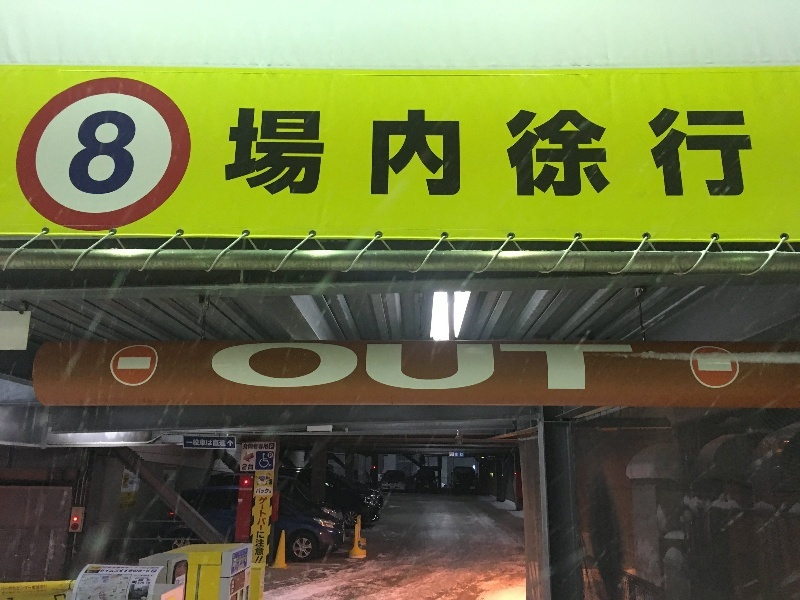text: (241, 105, 256, 199), (257, 105, 272, 199), (273, 105, 288, 199), (289, 105, 304, 199), (305, 105, 320, 199), (321, 105, 336, 199), (337, 105, 352, 199), (353, 105, 368, 199), (369, 105, 384, 199), (385, 105, 400, 199), (401, 105, 416, 199), (417, 105, 432, 199), (433, 105, 448, 199), (449, 105, 464, 199), (465, 105, 480, 199), (481, 105, 496, 199), (497, 105, 512, 199), (513, 105, 528, 199), (529, 105, 544, 199), (545, 105, 560, 199), (561, 105, 576, 199), (577, 105, 592, 199), (593, 105, 608, 199), (609, 105, 624, 199), (625, 105, 640, 199), (641, 105, 656, 199), (657, 105, 672, 199), (673, 105, 688, 199), (689, 105, 704, 199), (705, 105, 720, 199), (721, 105, 736, 199), (737, 105, 752, 199), (97, 109, 112, 199), (113, 109, 128, 199), (129, 109, 144, 199), (82, 109, 96, 199), (225, 341, 240, 392), (241, 341, 256, 392), (257, 341, 272, 392), (273, 341, 288, 392), (289, 341, 304, 392), (305, 341, 320, 392), (321, 341, 336, 392), (337, 341, 352, 392), (353, 341, 368, 392), (369, 341, 384, 392), (385, 341, 400, 392), (401, 341, 416, 392), (417, 341, 432, 392), (433, 341, 448, 392), (449, 341, 464, 392), (465, 341, 480, 392), (481, 341, 496, 392), (497, 341, 512, 392), (513, 341, 528, 392), (529, 341, 544, 392), (545, 341, 560, 392), (561, 341, 576, 392), (577, 341, 592, 392), (593, 341, 608, 392), (609, 341, 624, 392), (625, 341, 640, 392), (753, 105, 761, 199), (260, 497, 272, 556), (233, 105, 240, 199), (213, 341, 224, 392), (145, 109, 148, 199), (641, 341, 646, 392), (193, 440, 208, 447), (209, 440, 224, 447), (17, 585, 32, 592), (2, 585, 16, 592), (33, 585, 47, 592), (243, 443, 256, 450), (243, 464, 256, 470), (257, 443, 268, 450), (257, 489, 272, 494), (454, 452, 464, 457), (113, 570, 128, 573), (129, 570, 144, 573), (186, 440, 192, 447), (145, 570, 158, 573), (102, 570, 112, 573), (269, 453, 272, 458), (225, 440, 227, 447), (271, 444, 272, 449), (273, 444, 274, 449)
